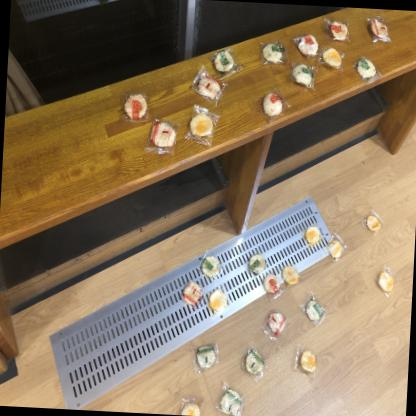green_setoshio: (287, 57, 319, 91), (216, 382, 248, 416), (240, 346, 270, 381), (189, 340, 220, 373), (209, 45, 240, 76), (354, 51, 382, 85), (302, 295, 328, 328), (196, 250, 224, 278), (260, 38, 288, 66), (246, 249, 266, 276)
red_setoshio: (146, 116, 180, 155), (192, 70, 226, 102), (258, 88, 288, 120), (364, 11, 394, 43), (122, 89, 150, 121), (294, 27, 321, 58), (263, 306, 288, 338), (326, 14, 352, 44), (182, 279, 206, 308), (262, 271, 281, 298)
yellow_setoshio: (186, 104, 219, 147), (292, 344, 322, 380), (374, 264, 398, 300), (326, 230, 348, 266), (206, 283, 229, 316), (320, 44, 347, 72), (177, 394, 205, 416), (362, 208, 384, 235), (280, 263, 302, 286), (304, 225, 324, 248)
